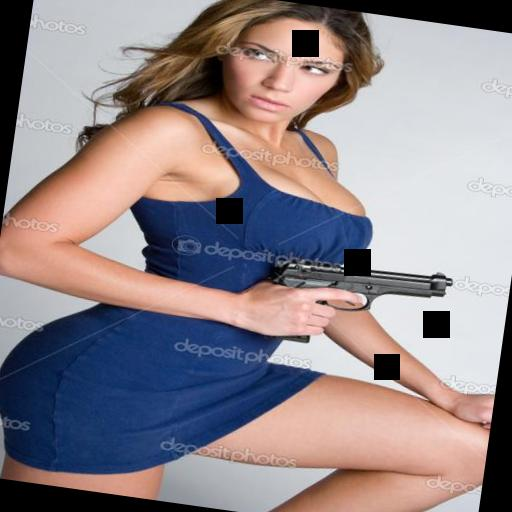Handgun: (246, 246, 458, 362)
